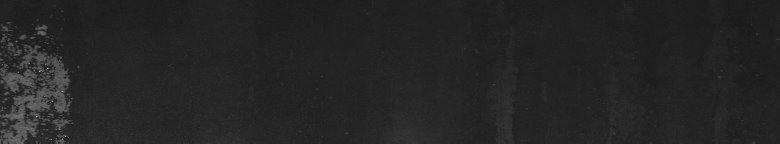kb: (4, 22, 64, 136)
